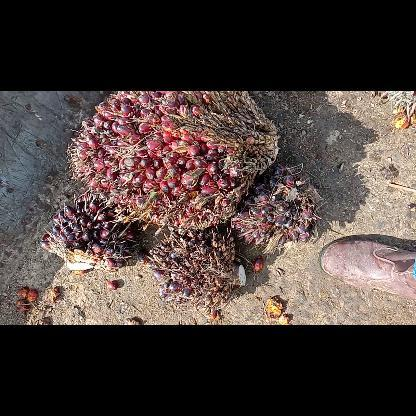TBS abnormal: (146, 228, 247, 310), (38, 194, 136, 270), (237, 166, 318, 248)
TBS masak: (69, 92, 278, 233)
